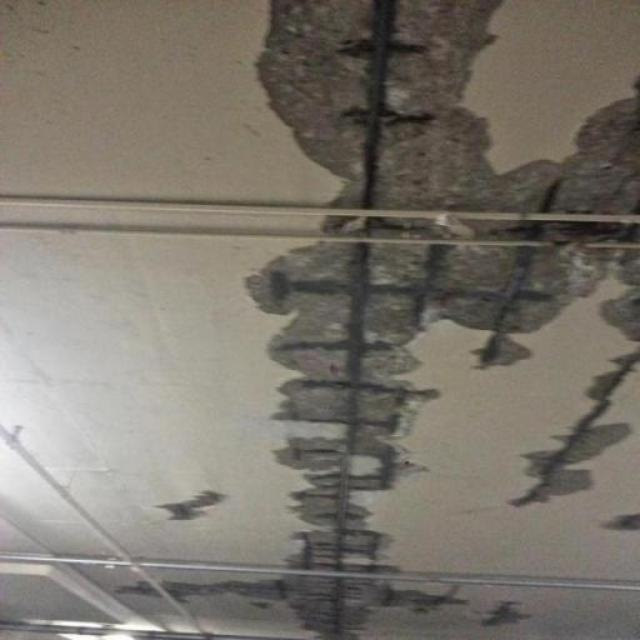D0w0: (194, 214, 633, 633), (258, 2, 639, 217), (158, 490, 229, 521), (602, 514, 639, 533)
